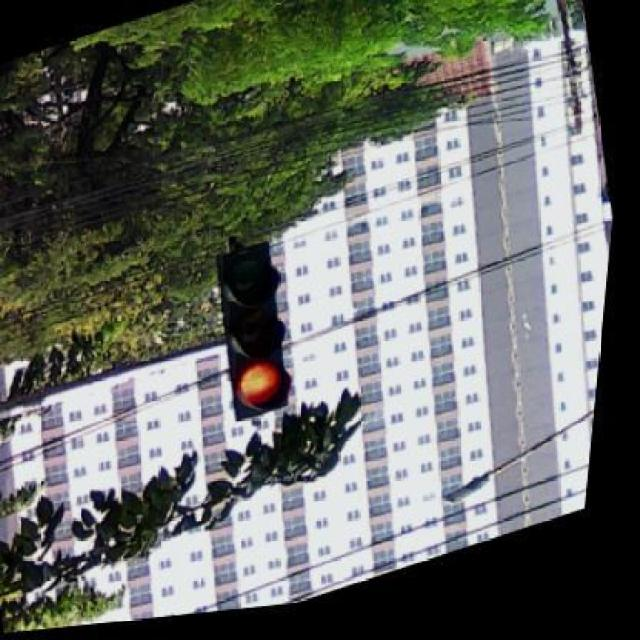Traffic Light -Red-: (209, 237, 297, 432)
